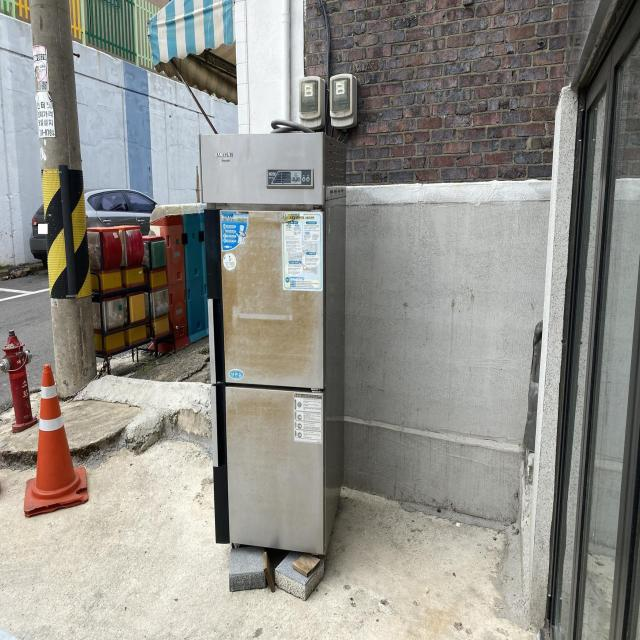refrigerator: (197, 130, 345, 558)
